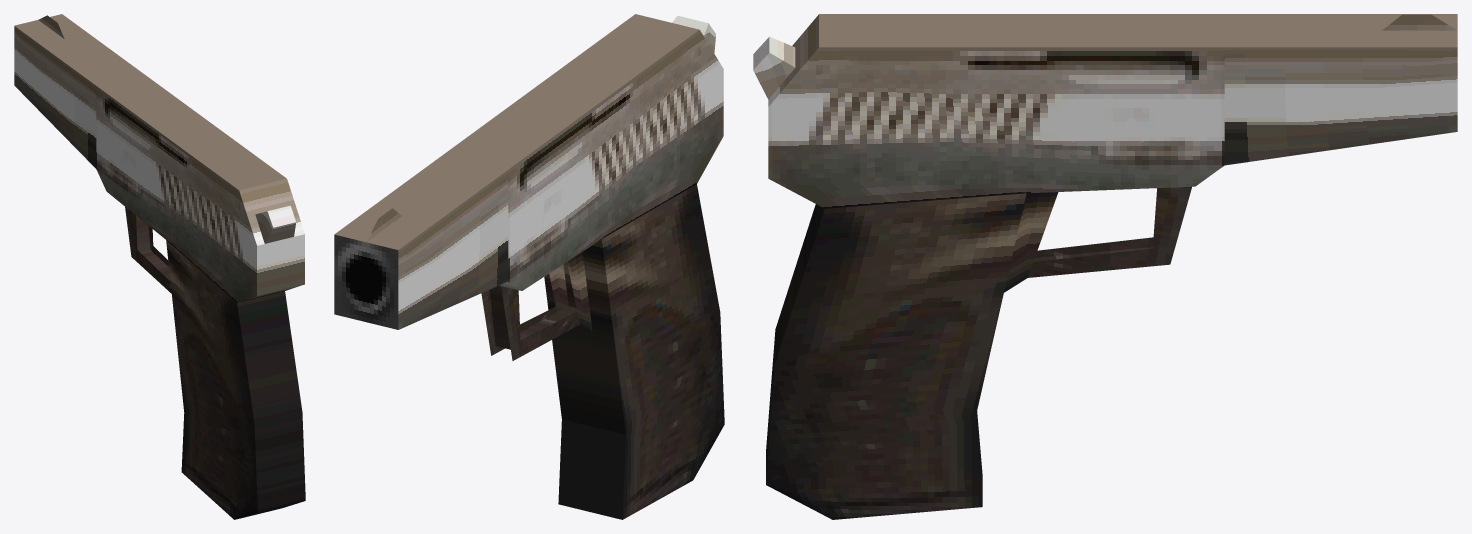
The model's file is recovered_gun_sp10_gyuraz.glb.
3 views of the same model, side by side, from view 1: azimuth 30°, elevation 25°; view 2: azimuth 150°, elevation 25°; view 3: azimuth 270°, elevation 25° (orthographic). The views are drawn at different scales.
Parts seen in each view (by area): view 1: Gun_e120f9ceb7fd; view 2: Gun_e120f9ceb7fd, Gun_379f7b5fa02f; view 3: Gun_e120f9ceb7fd.
Boxes of the visible parts, bbox=[...] form: Gun_e120f9ceb7fd: bbox=[14, 14, 305, 519]; Gun_e120f9ceb7fd: bbox=[334, 14, 724, 519]; Gun_379f7b5fa02f: bbox=[334, 234, 398, 329]; Gun_e120f9ceb7fd: bbox=[753, 14, 1457, 519].
Size of the model in its own units: 0.0285 by 0.1957 by 0.2557.
Materials: 2 (2 with a texture image).
